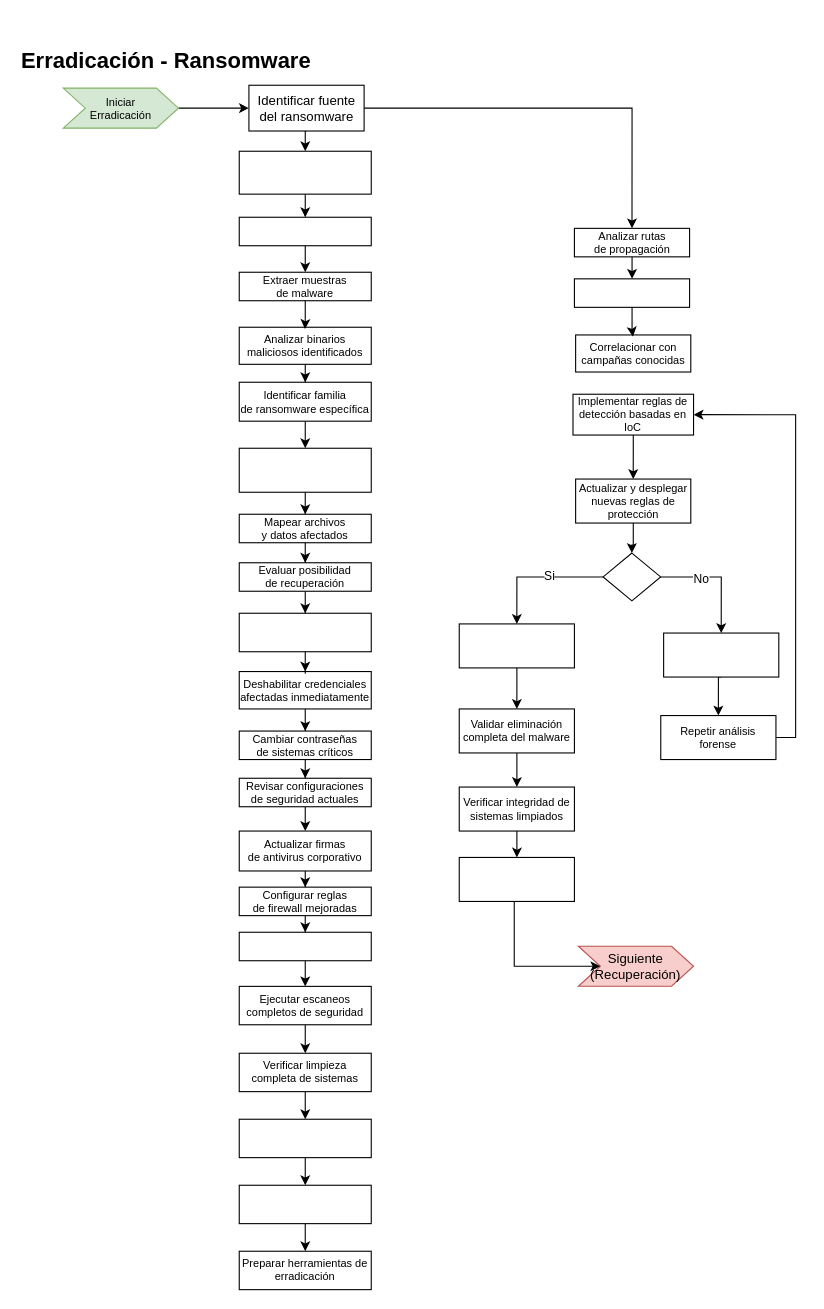
The diagram is 824 pixels wide and 1309 high, and some of its shapes have lost their labels. Here are the shapes that lost their labels. From the top down, the box of each, then its label:
(238, 150, 371, 194): Crear imágenes forenses de sistemas clave
(238, 216, 371, 246): Preservar logs de seguridad críticos
(573, 278, 690, 307): Analizar correos, links, macros o scripts
(238, 447, 371, 492): Buscar herramientas de descifrado disponibles
(602, 552, 661, 601): ¿Erradicación exitosa?
(238, 612, 371, 652): Identificar cuentas de usuario comprometidas
(458, 623, 574, 668): Documentar artefactos eliminados
(663, 632, 779, 677): Implementar medidas adicionales de limpieza
(458, 856, 574, 901): Preparar estrategia de restauración
(238, 931, 371, 961): Implementar monitoreo adicional de seguridad
(238, 1118, 371, 1158): Documentar IoCs extraídos del incidente
(238, 1184, 371, 1224): Compartir threat intelligence con comunidad
